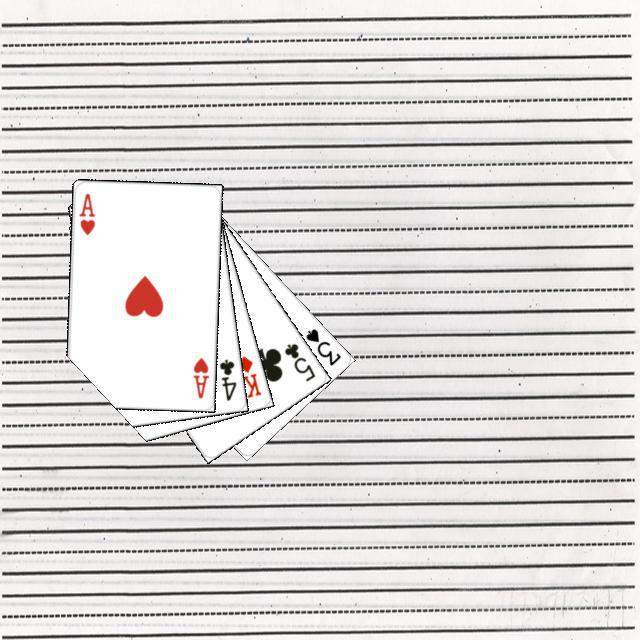3s: (301, 323, 343, 367)
4c: (214, 354, 238, 402)
5c: (279, 338, 317, 383)
Ah: (74, 188, 97, 236), (189, 352, 210, 400)
Kd: (234, 351, 263, 400)
